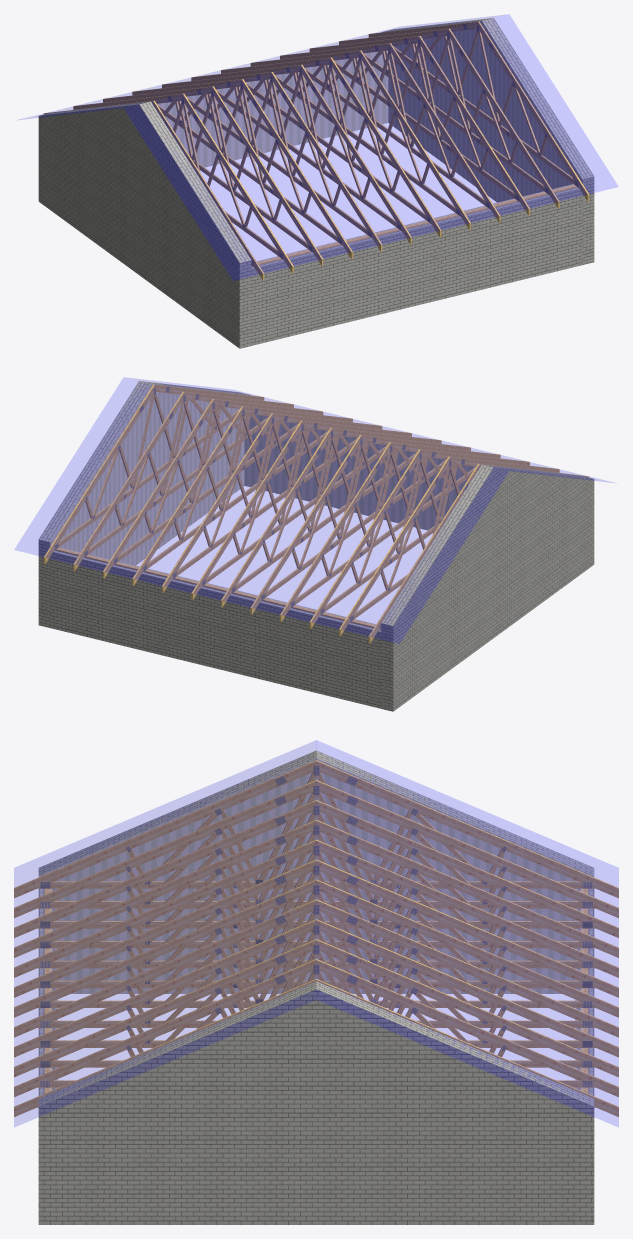
3 renders of one model, top to bottom at view 1: azimuth 30°, elevation 25°; view 2: azimuth 150°, elevation 25°; view 3: azimuth 270°, elevation 25°, orthographic. The views are drawn at different scales.
Parts seen in each view (by area): view 1: skfb_offset; view 2: skfb_offset; view 3: skfb_offset.
Boxes of the visible parts, bbox=[...] form: skfb_offset: bbox=[20, 15, 617, 348]; skfb_offset: bbox=[15, 378, 612, 711]; skfb_offset: bbox=[14, 740, 618, 1224].
Size of the model in its own units: 1 by 0.4227 by 0.9839.
Materials: 5 (4 with a texture image).
